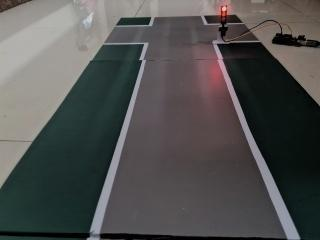red: (217, 3, 232, 29)
